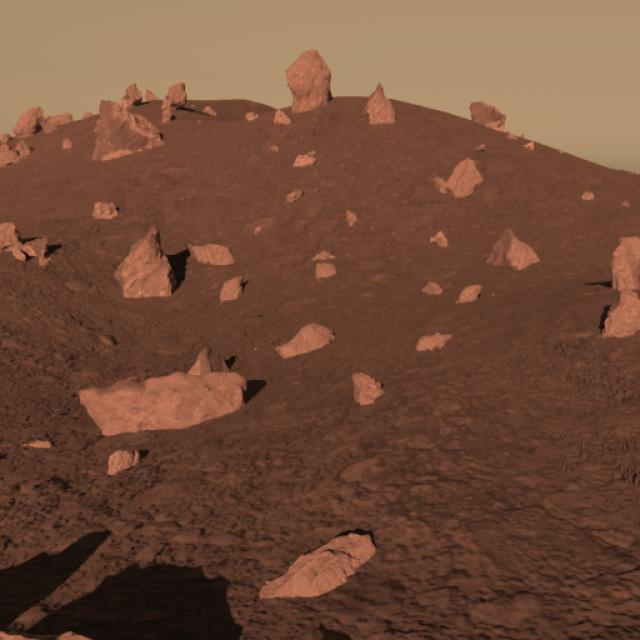rock: (80, 367, 247, 435), (257, 535, 378, 595), (112, 224, 182, 309), (92, 102, 159, 164), (278, 53, 339, 111), (607, 235, 640, 287)
